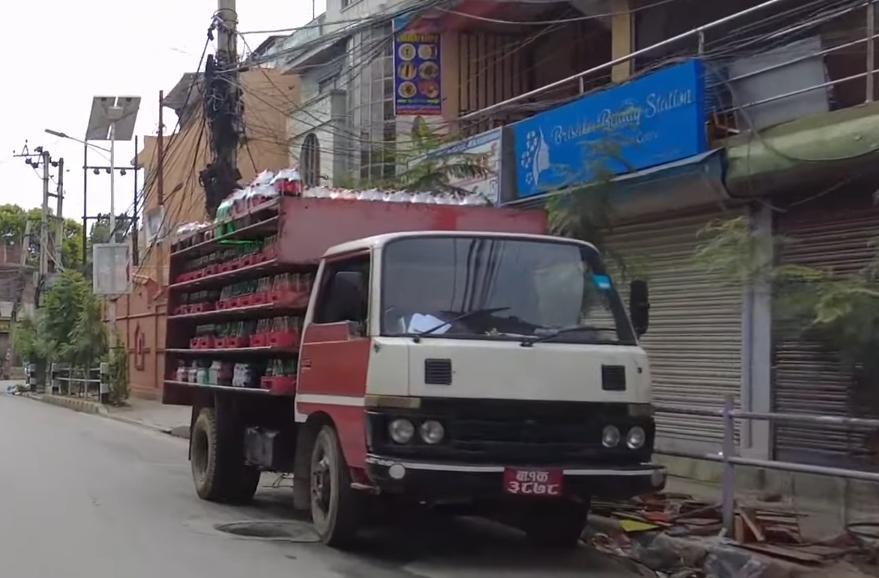mini_truck: (150, 160, 676, 568)
